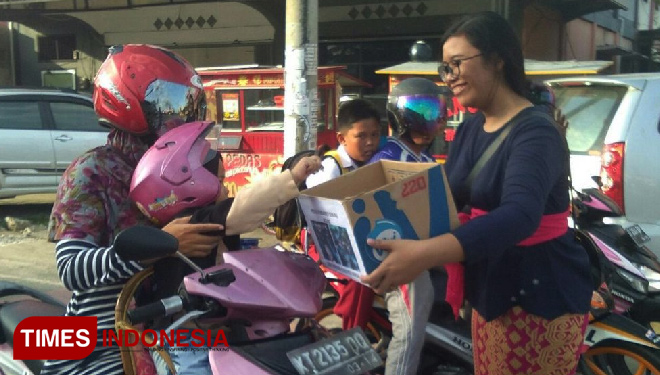plate: (290, 327, 385, 375)
